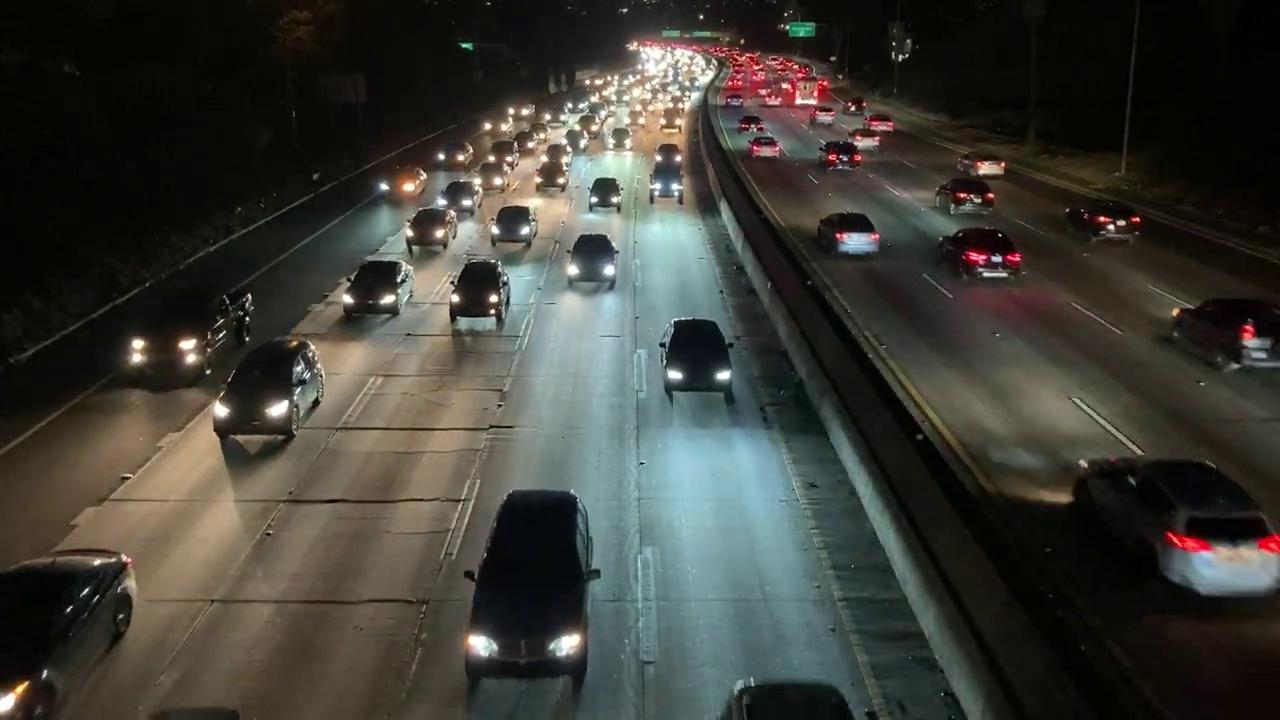car: (460, 486, 616, 704), (1082, 438, 1280, 596), (4, 534, 152, 708), (210, 331, 335, 445), (110, 290, 259, 366), (658, 310, 736, 417), (1173, 299, 1280, 372), (935, 230, 1024, 279), (560, 230, 626, 293), (447, 262, 509, 324), (346, 263, 415, 317), (1065, 200, 1141, 240), (815, 213, 881, 257), (406, 207, 459, 251), (934, 178, 995, 212), (366, 169, 430, 199), (645, 166, 683, 215), (469, 155, 513, 197), (490, 208, 537, 247), (436, 177, 488, 212), (524, 161, 567, 199), (432, 138, 475, 170), (817, 141, 862, 171), (586, 175, 623, 211), (831, 95, 877, 118), (856, 114, 902, 136), (843, 124, 881, 147), (545, 146, 583, 168), (608, 126, 641, 149), (748, 138, 783, 159), (737, 114, 769, 136), (808, 108, 840, 122)
